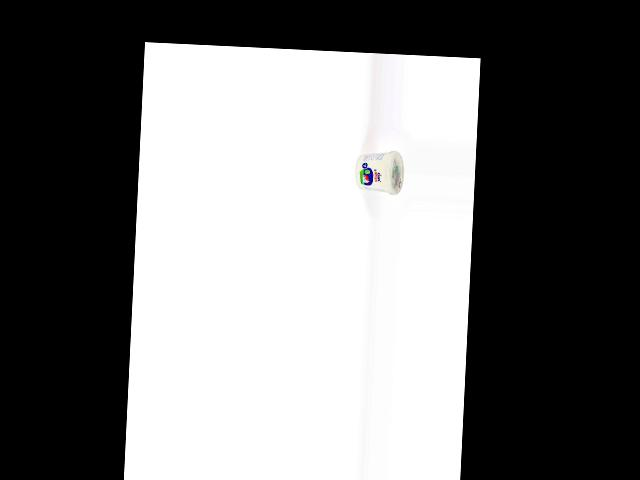cotage: (352, 148, 404, 197)
